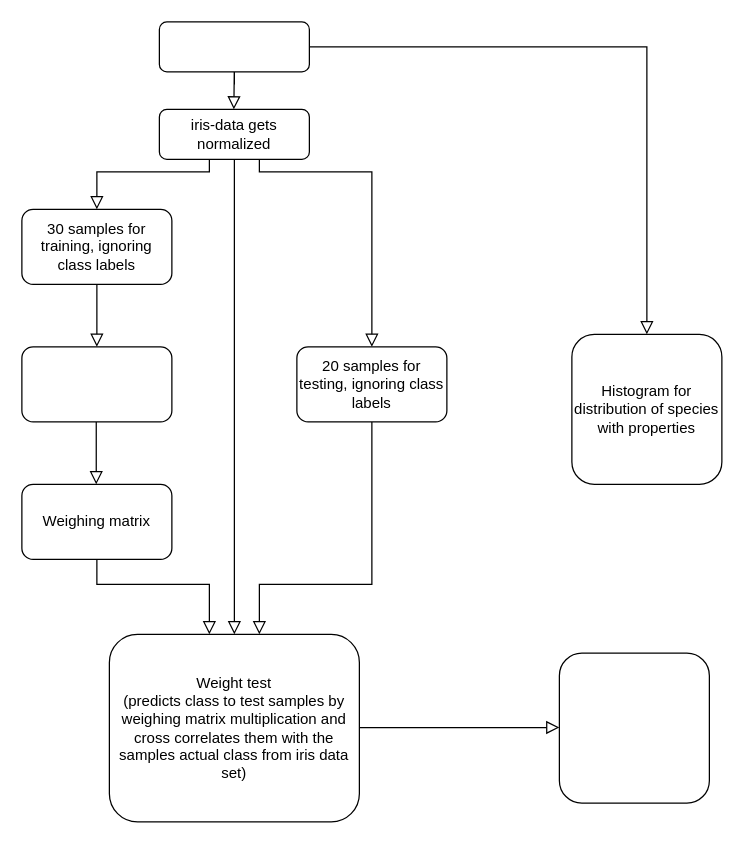
Image size: 744x844. Some labels were removed from this diagram. The shapes that lost their labels are listed below. From the top down, each one's box as (x1, y1, x2, y2) in pixels, then its label:
(158, 21, 309, 72): iris-data is loaded
(21, 346, 172, 422): Train linear classifier
(558, 652, 709, 803): Confusion matrix
